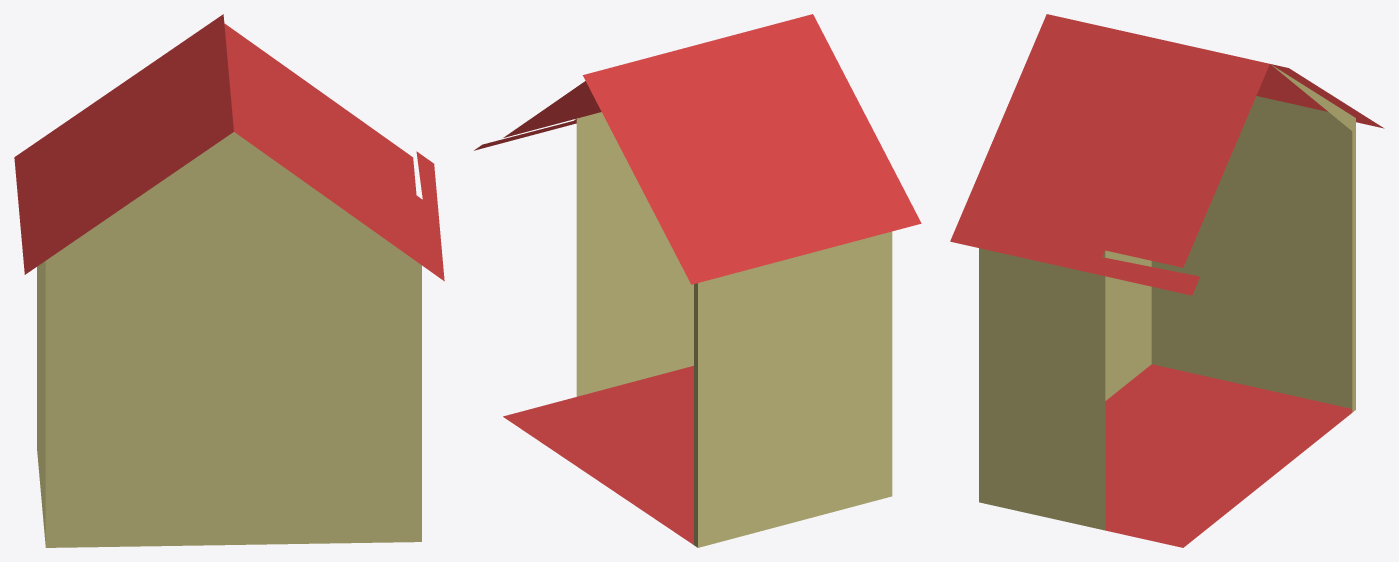
The picture shows the model from 3 angles, left to right: view 1: azimuth 30°, elevation 25°; view 2: azimuth 150°, elevation 25°; view 3: azimuth 270°, elevation 25°; orthographic projection. The views are drawn at different scales.
Bounding box in the file's own units: 17.25 × 15.23 × 16.03.
